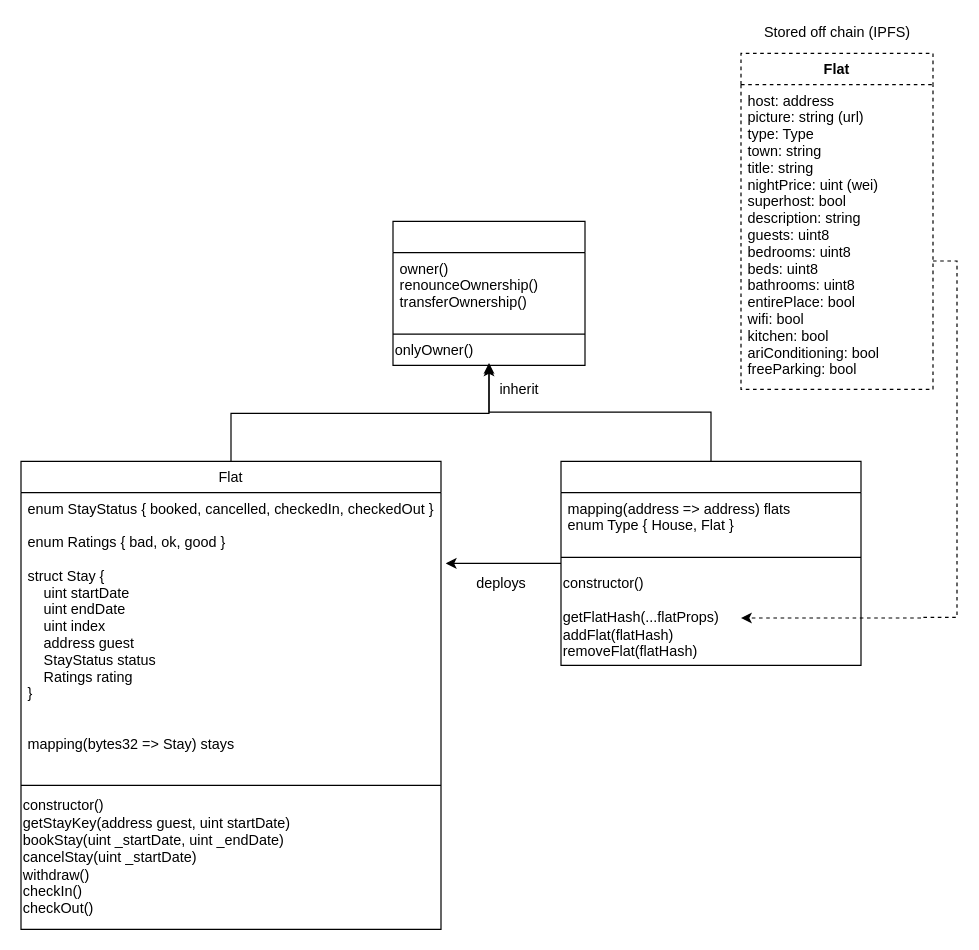
The diagram is 979 pixels wide and 950 high, and some of its shapes have lost their labels. The shapes that lost their labels are listed below. From the top down, each one's box as (x1, y1, x2, y2) in pixels, then its label:
(392, 220, 585, 365): Ownable
(560, 460, 861, 665): Etherbnb (=Flat Factory)
